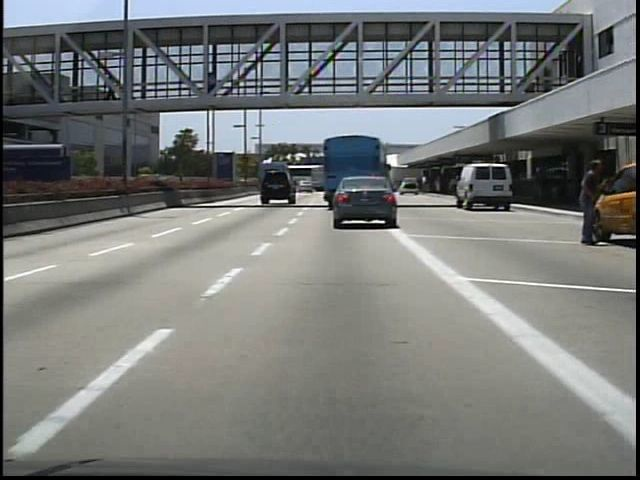person: (573, 153, 606, 249), (531, 166, 553, 207), (204, 69, 220, 104), (106, 72, 122, 102)
